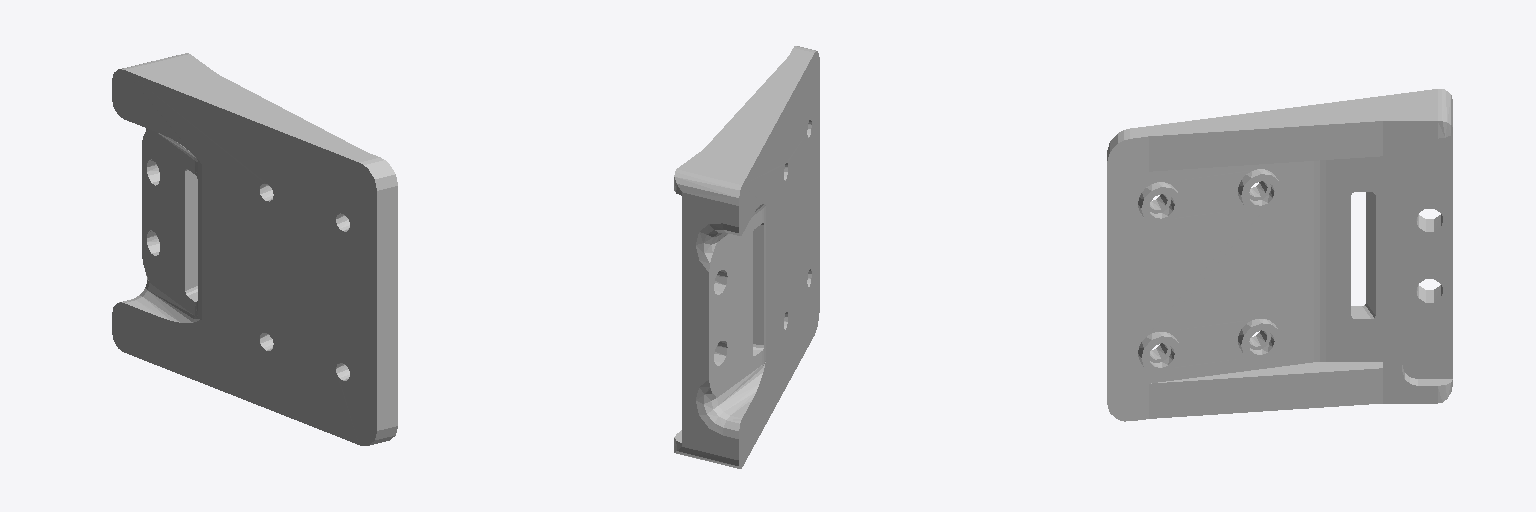
The model's file is camera_mount.obj.
3 renders of one model, left to right at view 1: azimuth 30°, elevation 25°; view 2: azimuth 150°, elevation 25°; view 3: azimuth 270°, elevation 25°, orthographic.
Visible parts, largest first — view 1: 5001-00_Camera_Mount; view 2: 5001-00_Camera_Mount; view 3: 5001-00_Camera_Mount.
Boxes of the visible parts, x1,y1,x2,y2 form: 5001-00_Camera_Mount: [112, 53, 397, 445]; 5001-00_Camera_Mount: [674, 46, 819, 468]; 5001-00_Camera_Mount: [1107, 89, 1452, 421].
Bounding box in the file's own units: 0.0169 × 0.04 × 0.0444.